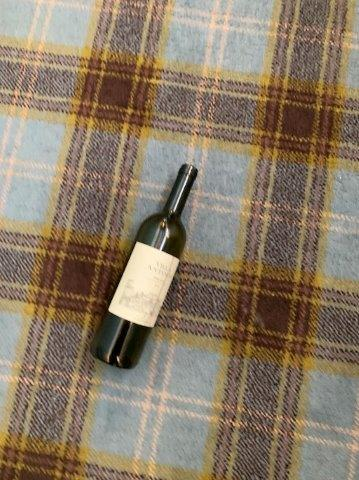botolkaca: (88, 165, 200, 370)
